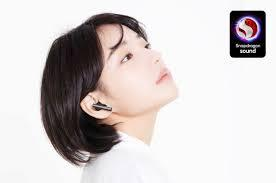earphone: (89, 98, 112, 113)
